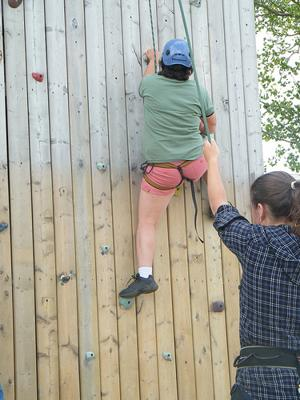person: (118, 38, 217, 298)
